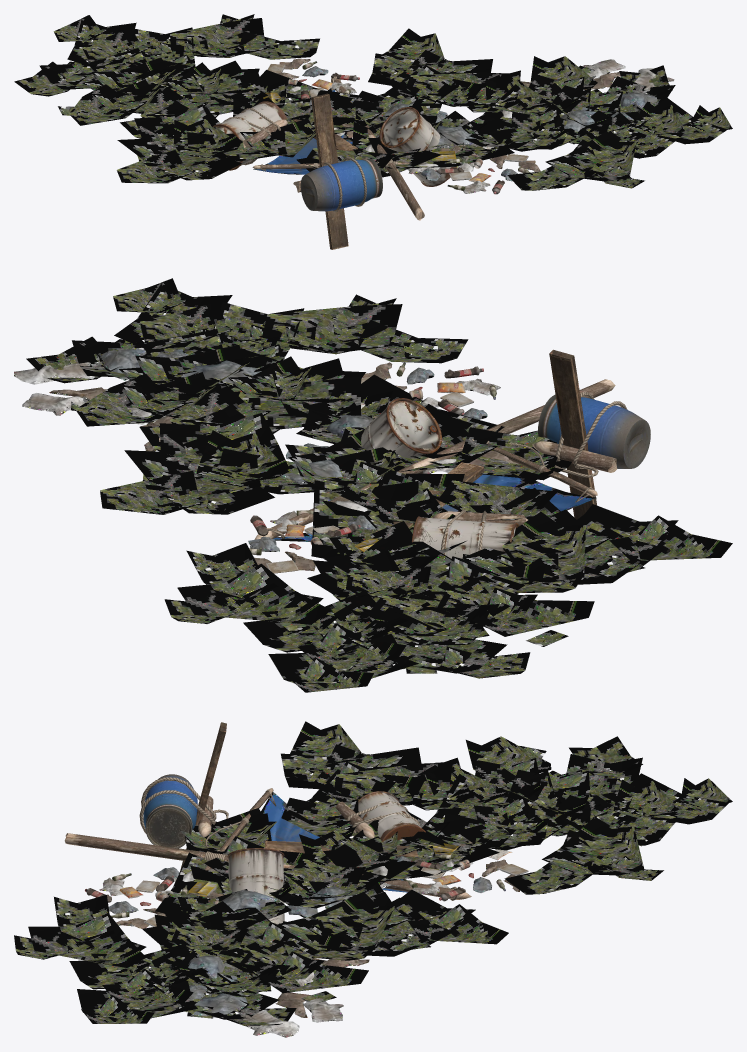
File: water_junk_pile_c_no_planks.glb
The picture shows the model from 3 angles, top to bottom: view 1: azimuth 30°, elevation 25°; view 2: azimuth 150°, elevation 25°; view 3: azimuth 270°, elevation 25°; orthographic projection. The views are drawn at different scales.
Visible parts, largest first — view 1: creeping_plant_a, creeping_plant_a (1), floating_sail_LOD0, ground_junk_a (×2), ground_cloth_a (×2); view 2: creeping_plant_a, creeping_plant_a (1), floating_sail_LOD0, ground_cloth_a (×2), ground_junk_a (×2); view 3: creeping_plant_a, creeping_plant_a (1), floating_sail_LOD0, ground_cloth_a (×2), ground_junk_a (×2).
Boxes of the visible parts, x1=… form: creeping_plant_a: x1=14, y1=14, x2=442, y2=183; creeping_plant_a (1): x1=296, y1=28, x2=732, y2=190; floating_sail_LOD0: x1=213, y1=76, x2=457, y2=249; ground_junk_a (×2): x1=249, y1=58, x2=540, y2=194; ground_cloth_a (×2): x1=334, y1=59, x2=674, y2=173; creeping_plant_a: x1=164, y1=429, x2=732, y2=692; creeping_plant_a (1): x1=26, y1=278, x2=571, y2=514; floating_sail_LOD0: x1=254, y1=349, x2=650, y2=558; ground_cloth_a (×2): x1=14, y1=348, x2=518, y2=511; ground_junk_a (×2): x1=248, y1=362, x2=500, y2=573; creeping_plant_a: x1=267, y1=721, x2=732, y2=908; creeping_plant_a (1): x1=14, y1=808, x2=508, y2=1025; floating_sail_LOD0: x1=64, y1=722, x2=471, y2=924; ground_cloth_a (×2): x1=173, y1=838, x2=400, y2=1037; ground_junk_a (×2): x1=85, y1=841, x2=528, y2=928.
Size of the model in its own units: 11.72 by 2.94 by 11.74.
Materials: 8 (8 with a texture image).
